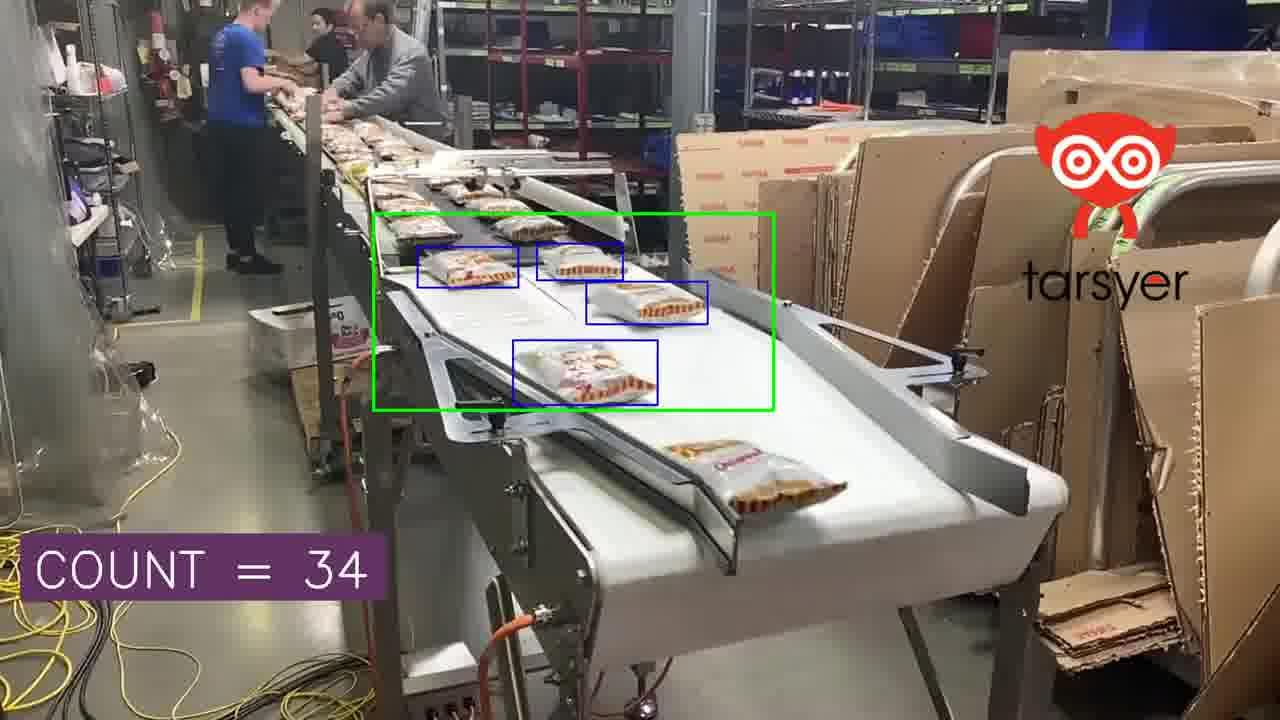Snack: (664, 439, 846, 514), (517, 342, 656, 403), (588, 282, 707, 322), (421, 249, 516, 286), (537, 243, 623, 279), (494, 213, 567, 243), (384, 215, 460, 242), (440, 182, 505, 204), (372, 180, 426, 201), (375, 196, 438, 212), (465, 197, 530, 212)
